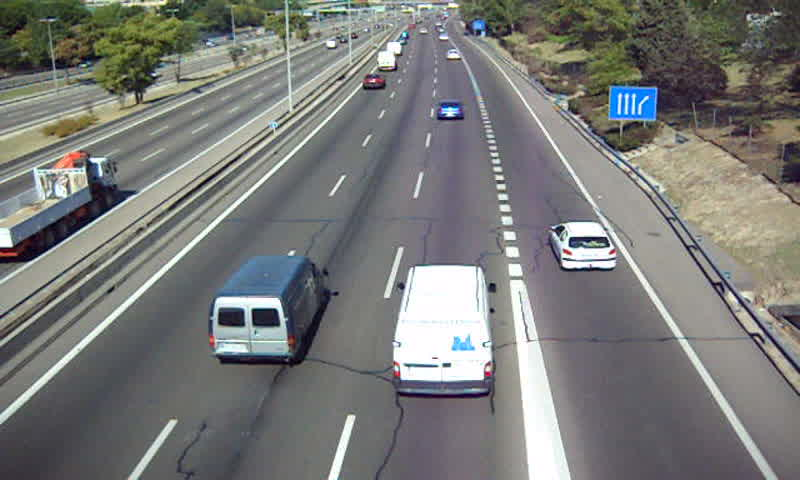car: (548, 220, 616, 272), (434, 100, 466, 120), (362, 72, 386, 89)
van: (392, 266, 496, 397), (211, 254, 328, 364), (376, 51, 397, 71)
